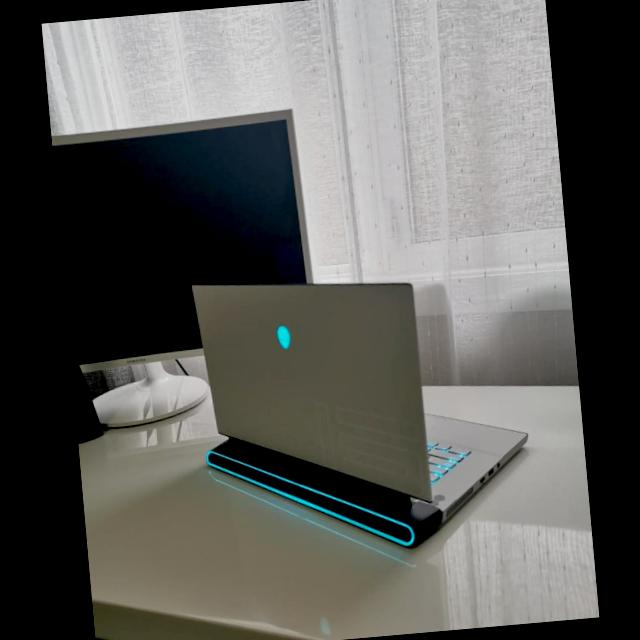laptop: (191, 283, 527, 546)
